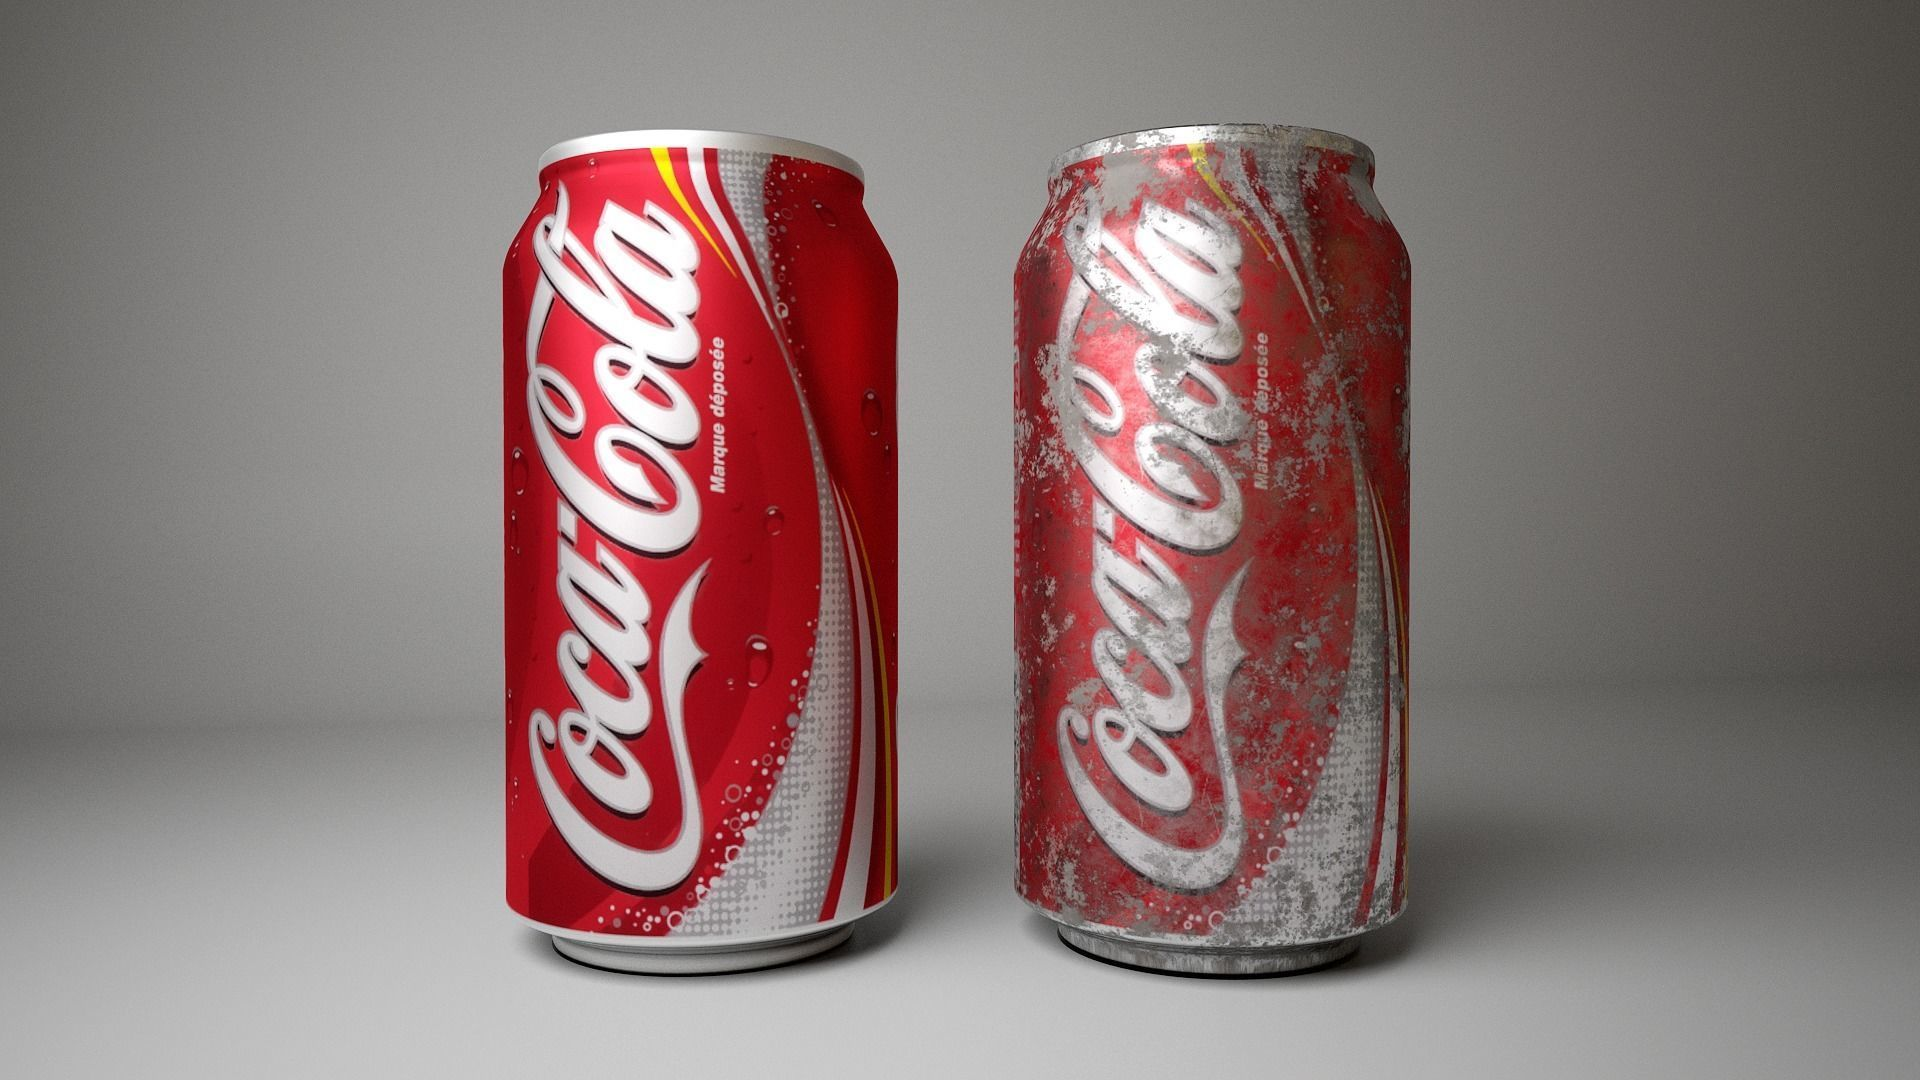coke: (1051, 179, 1298, 936), (502, 170, 764, 880)
